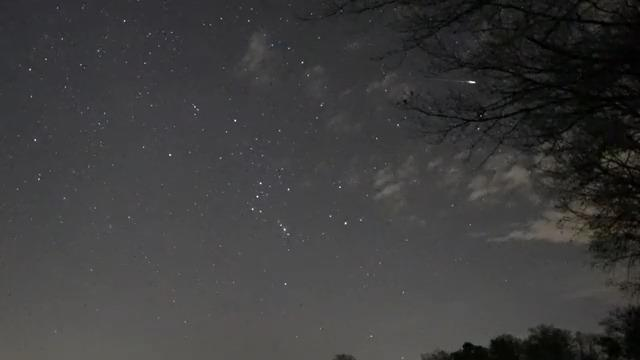meteorite: (405, 67, 481, 98)
